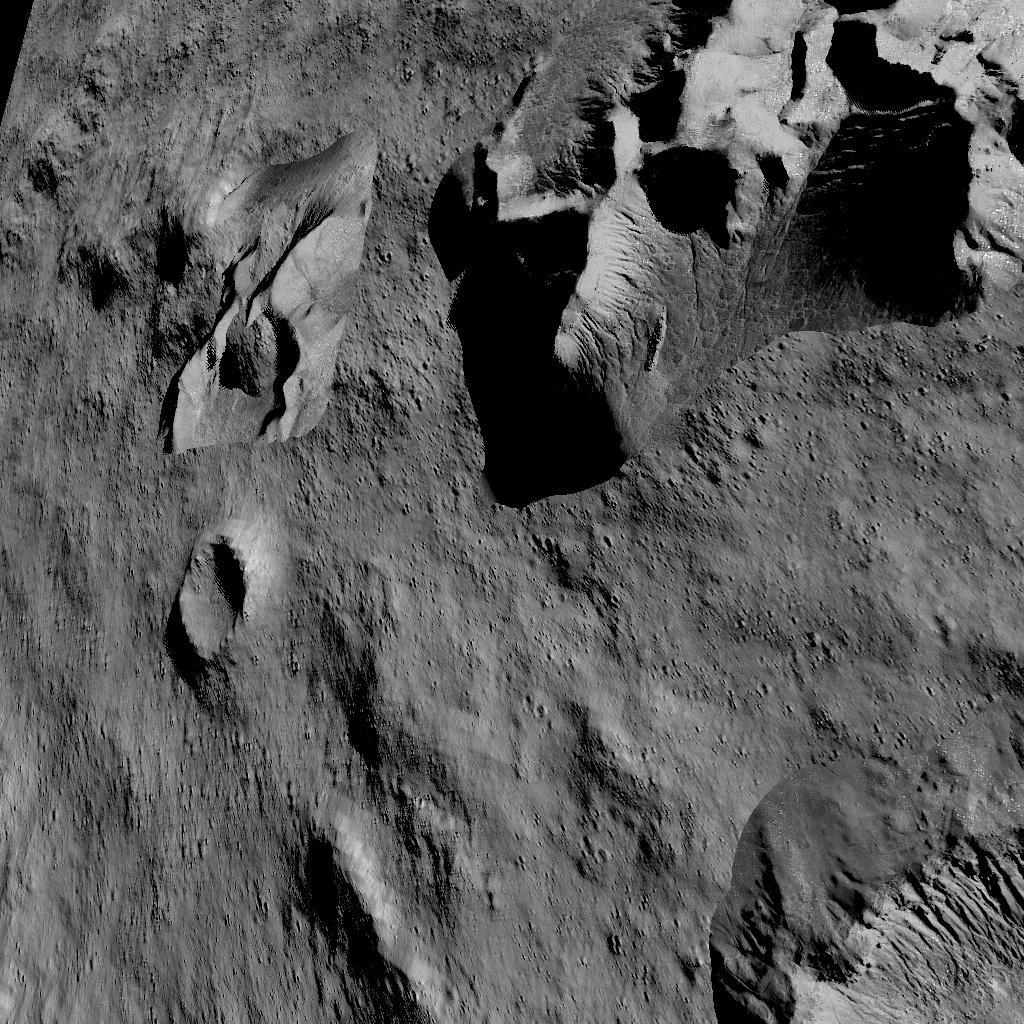Boulders: (409, 0, 1024, 515), (40, 126, 366, 460)
Crater: (684, 779, 1024, 1024), (136, 522, 242, 696)
Plan surface: (401, 532, 1024, 768), (1, 726, 237, 1024), (401, 776, 672, 1024), (3, 0, 381, 113)
